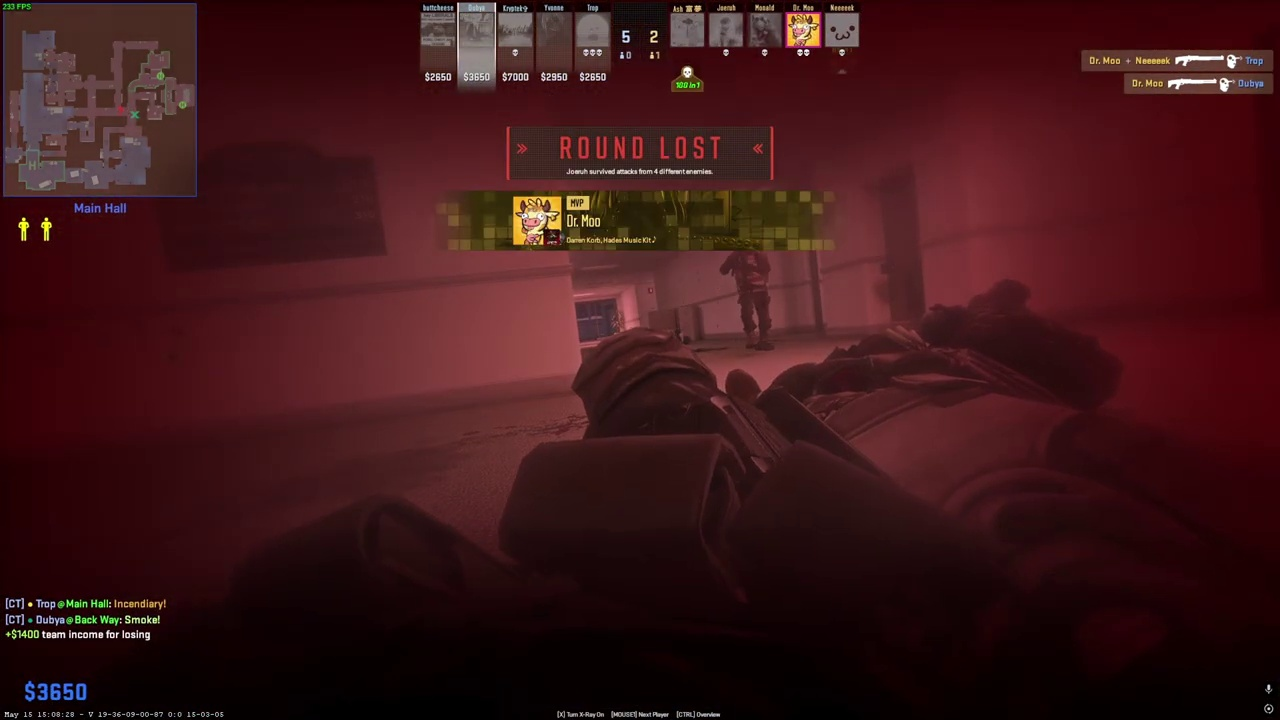Terrorist: (725, 246, 772, 351)
